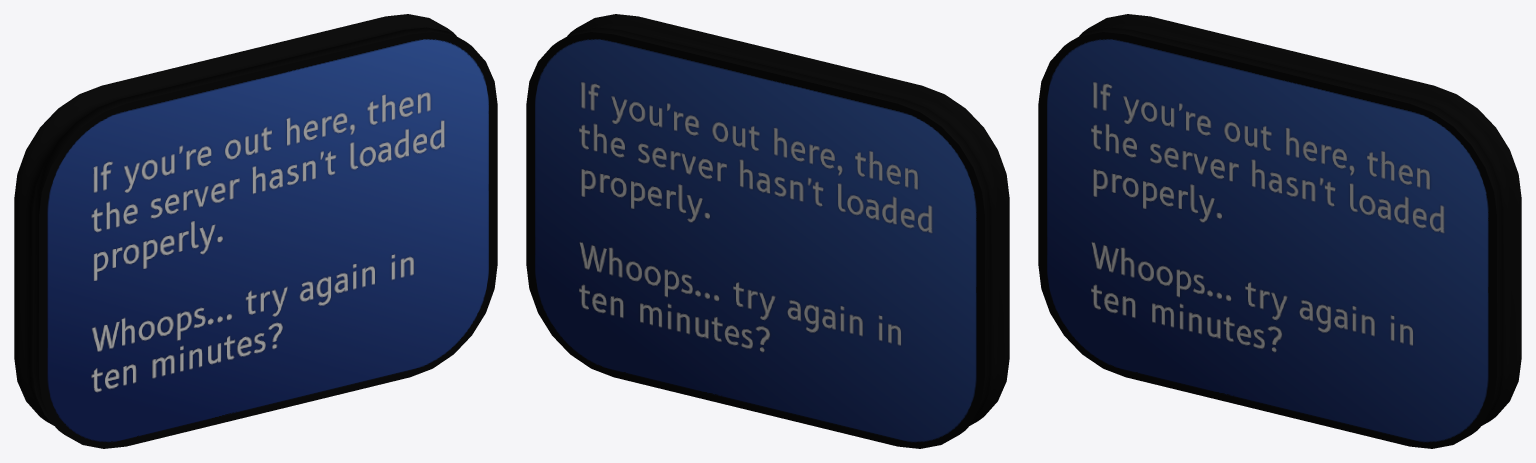
File: errorSign.gltf
3 views of the same model, side by side, from view 1: azimuth 30°, elevation 25°; view 2: azimuth 150°, elevation 25°; view 3: azimuth 330°, elevation 25° (orthographic).
Visible parts, largest first — view 1: Cube; view 2: Cube; view 3: Cube.
Boxes of the visible parts, left/top/right/bottom form: Cube: left=14, top=14, right=497, bottom=448; Cube: left=526, top=14, right=1009, bottom=448; Cube: left=1038, top=14, right=1521, bottom=448.
Size of the model in its own units: 2.8 by 2 by 0.2593.
Materials: 1 (1 with a texture image).
